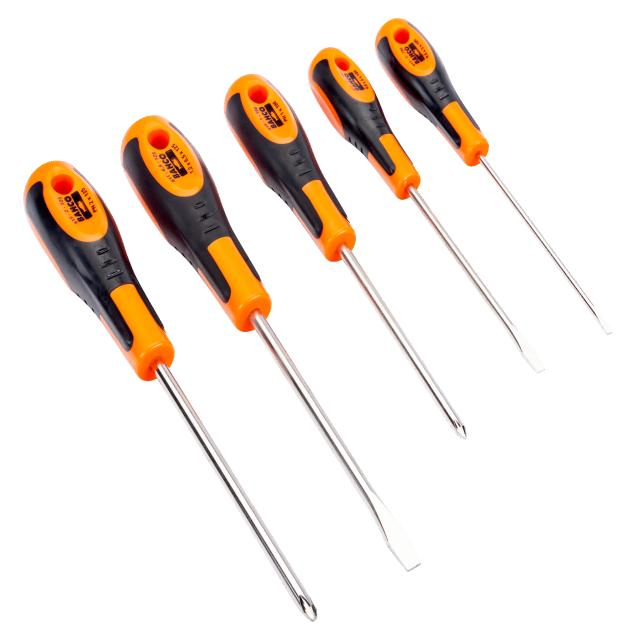Screwdriver: (121, 115, 419, 570), (24, 161, 316, 620), (225, 74, 465, 437), (309, 47, 544, 372), (375, 18, 611, 335)
